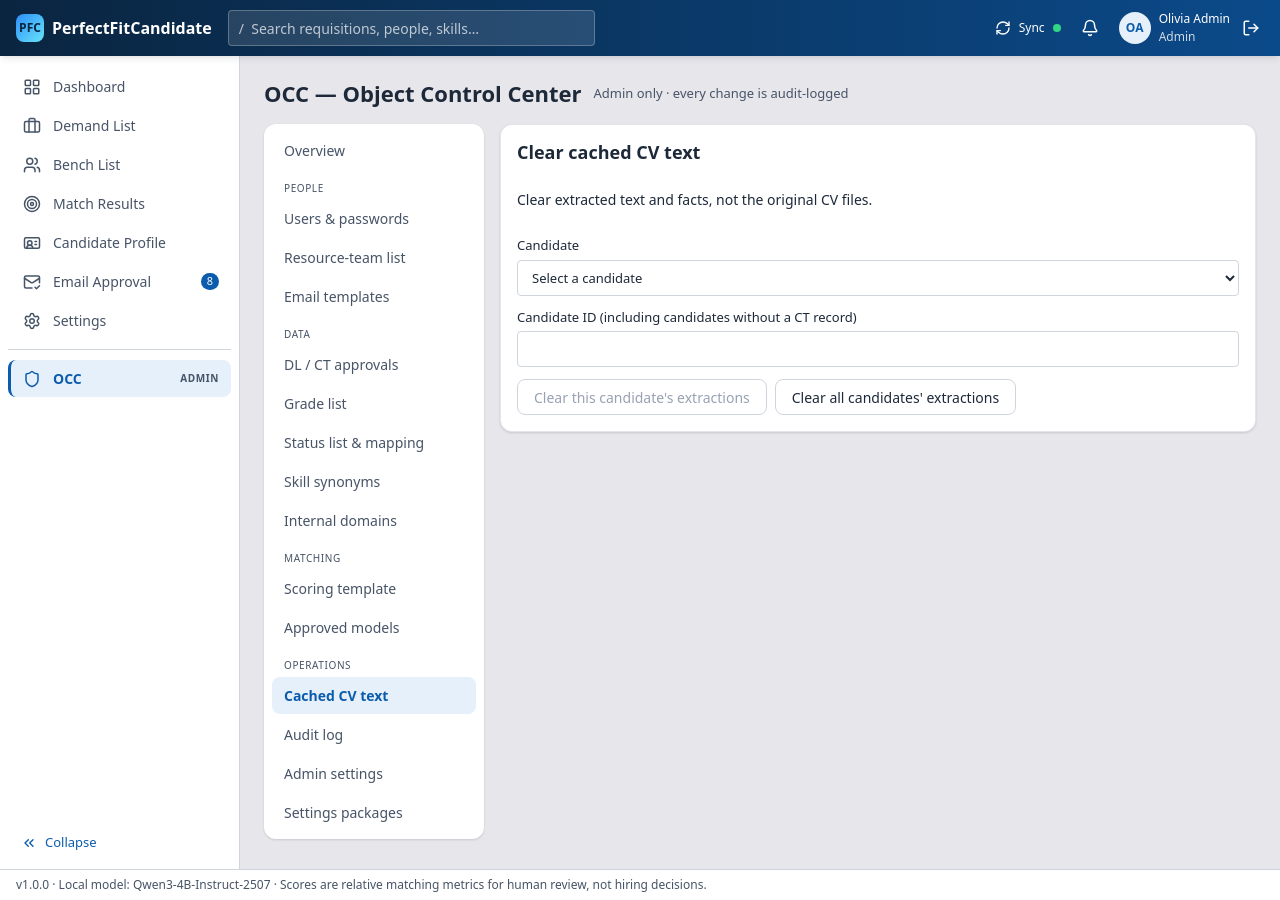
it: OCC cached CV text › confirms all-candidate removal and displays distinct backend counts
Select "Alex Alexander · ALEXANDER · #1" in the dropdown labelled "Candidate" at (878, 278), box [517,260,1239,296]
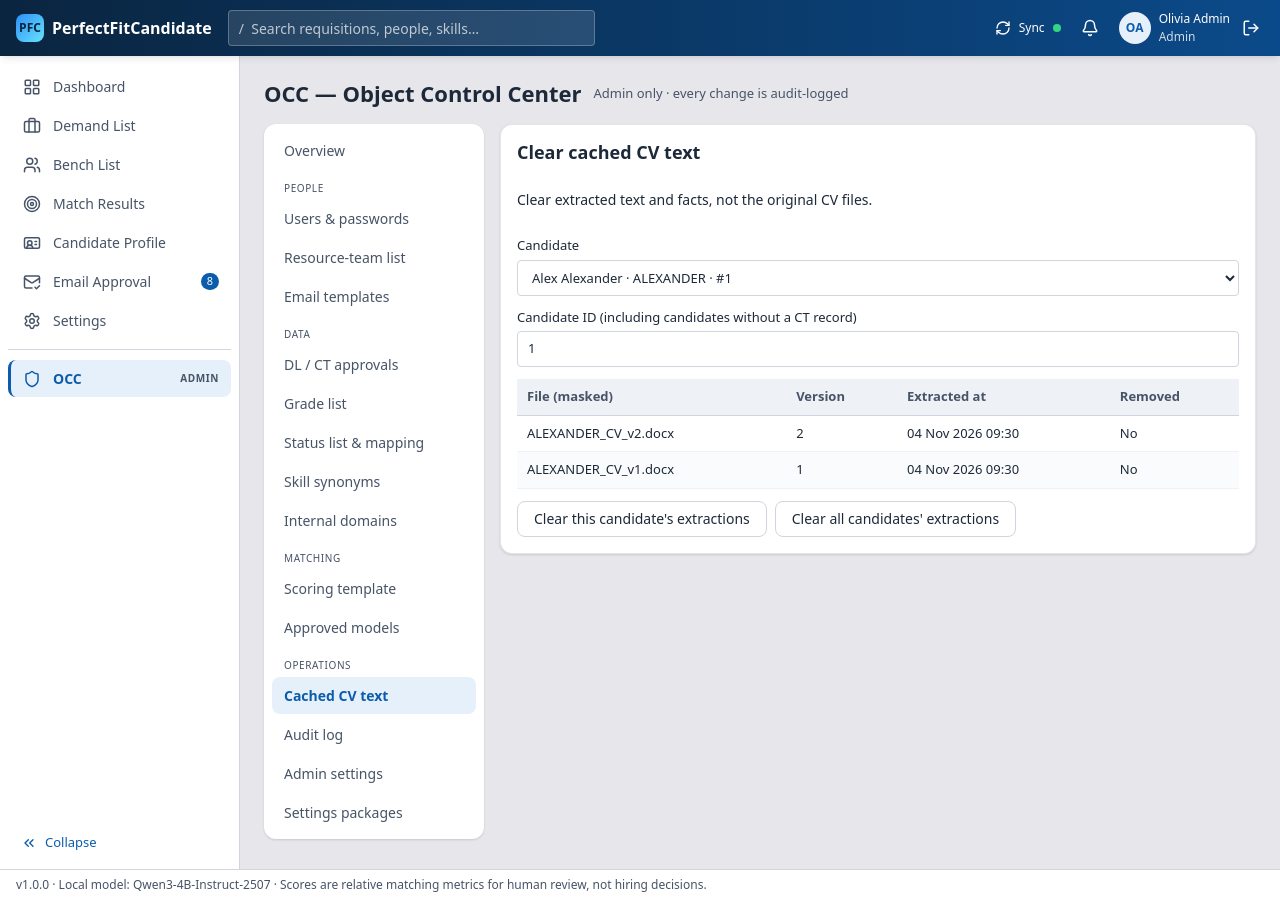
Expected: the table named "Cached CV extractions" is shown, [517,379,1239,488]
Click the button "Clear all candidates' extractions" at (896, 518), box [775,500,1016,536]
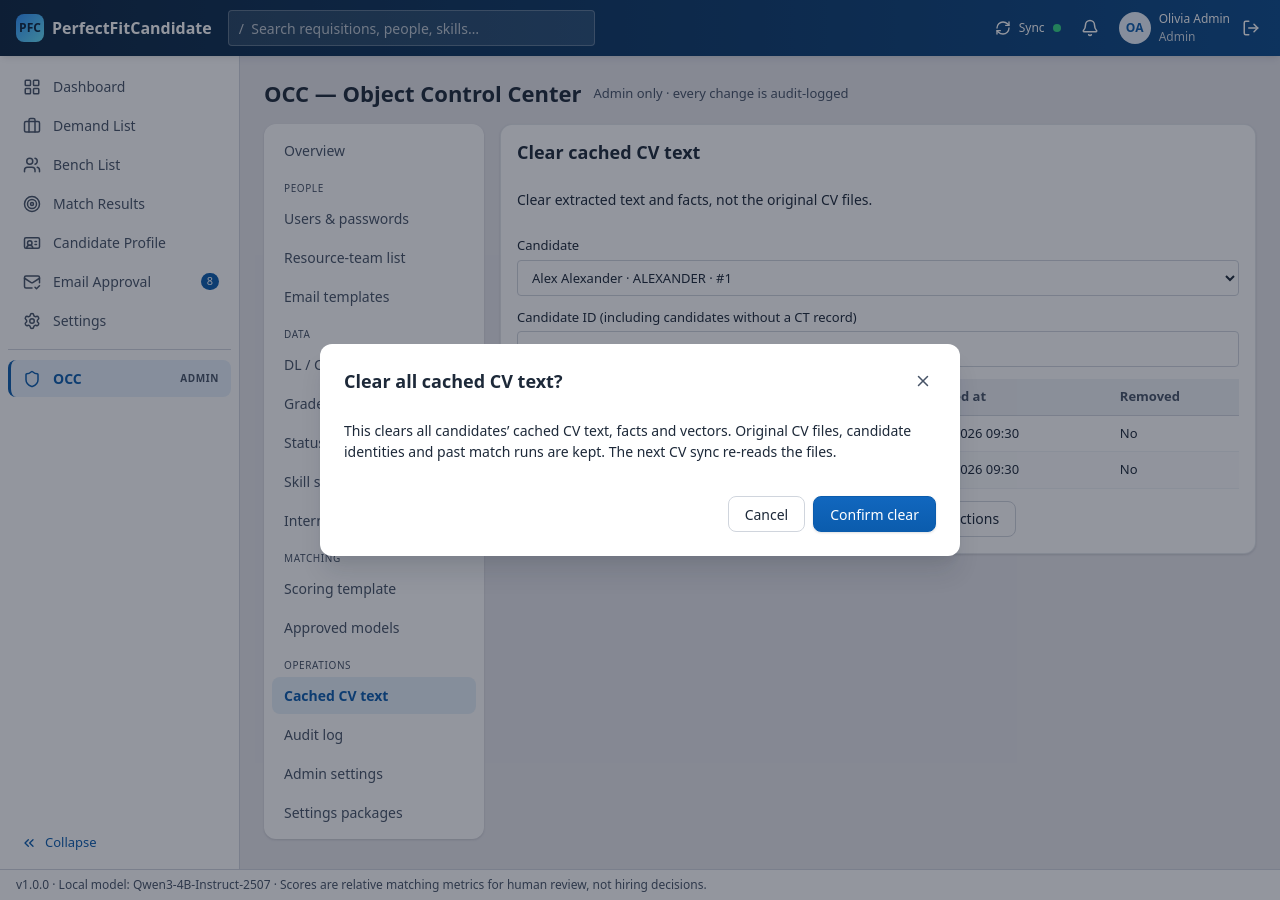
Expected: the dialog "Clear all cached CV text?" is shown, [320,344,960,556]
Click the button "Confirm clear" at (875, 514), box [813,496,936,532]
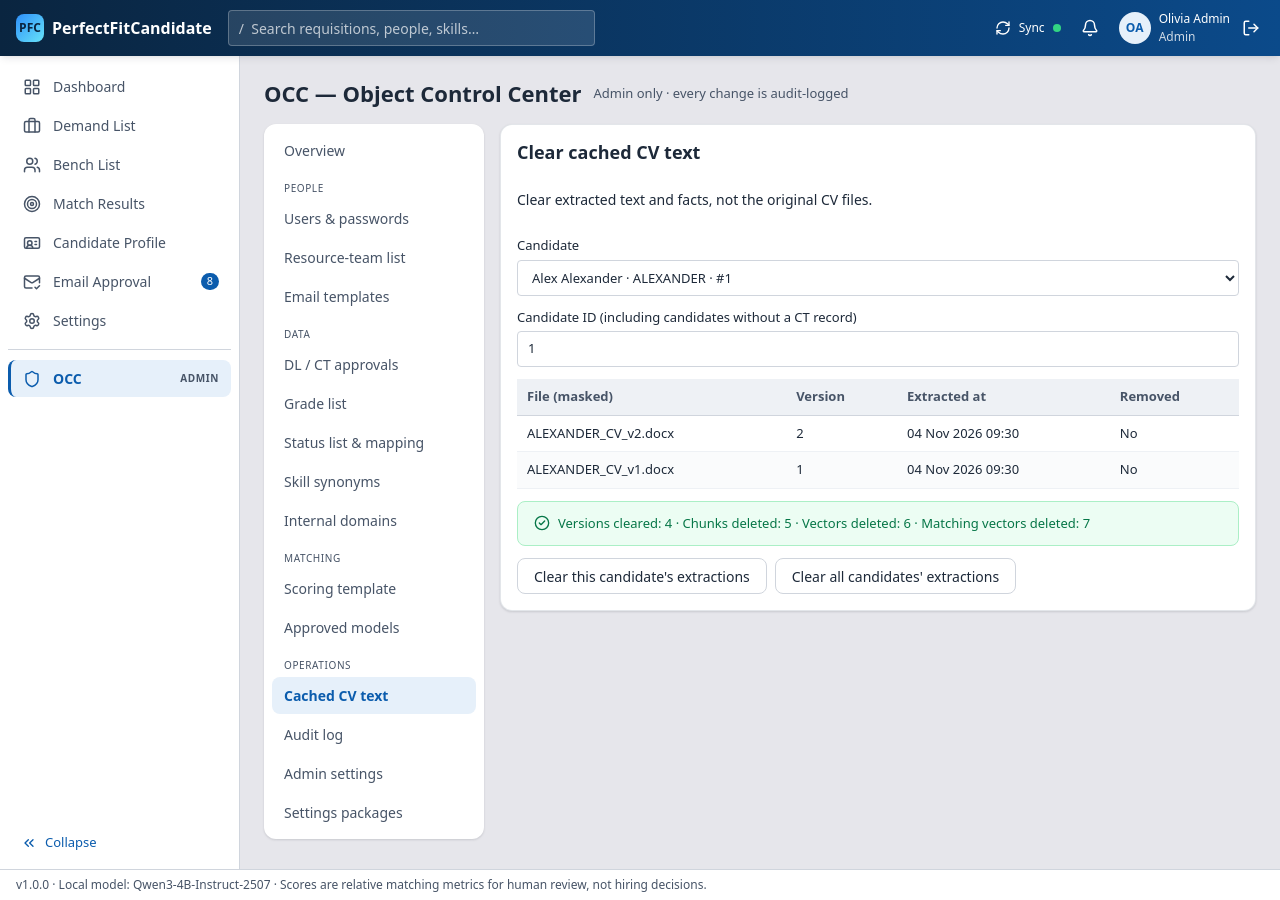
Expected: the text "Versions cleared: 4 · Chunks deleted: 5 · Vectors deleted: 6 · Matching vectors deleted: 7" is shown, [558,514,1090,533]
